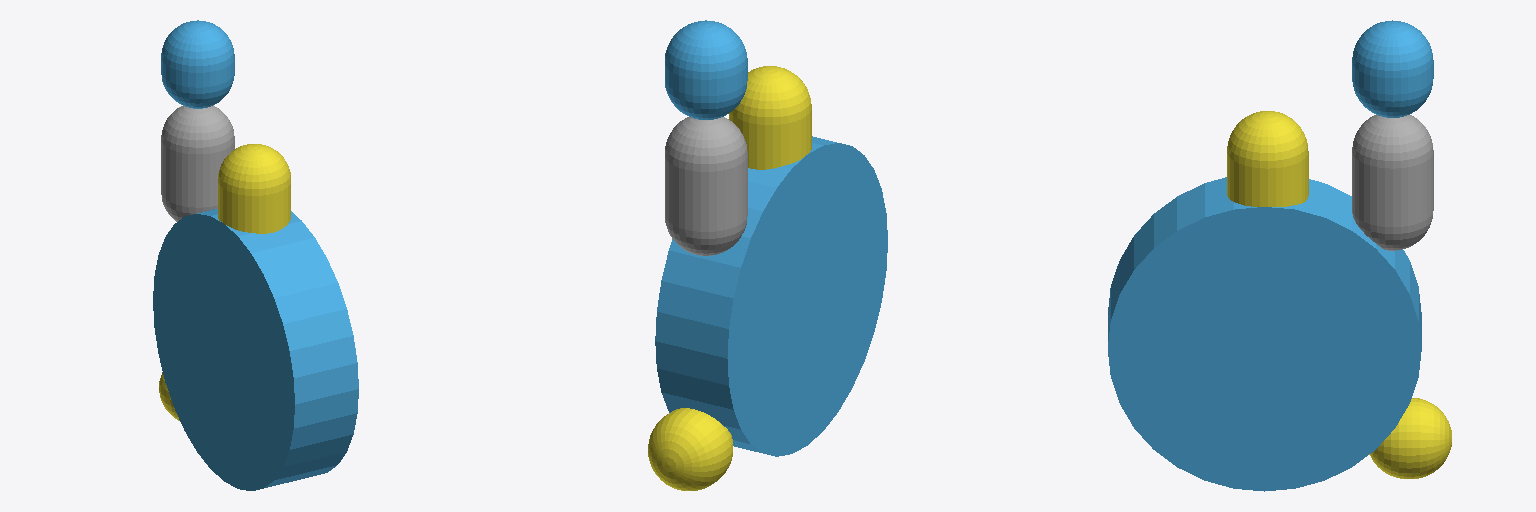
robot.urdf — DexterousHand:
<?xml version="1.0"?>
<robot name="DexterousHand">


    <link name="world"/>
    <joint name="world_to_palm" type="fixed">
        <parent link="world"/>
        <child link="palm"/>
        <origin xyz="0 0 0" rpy="0 0 0"/>
    </joint>
    <link name="palm">
        <inertial>
            <origin xyz="0 0 0.057" rpy="0 0 0"/>
            <mass value="0.30212892864"/>
            <inertia ixx="0.00049080844457568" ixy="0.0" ixz="0.0" iyy="0.00026746366246427523" iyz="0.0" izz="0.00026746366246427523"/>
        </inertial>
        <visual>
            <origin xyz="0 0 0.057" rpy="1.5708 0 1.5708"/>
            <geometry>
                <cylinder radius="0.057" length="0.0296"/>
            </geometry>
            <material name="default"/>
        </visual>
        <collision>
            <origin xyz="0 0 0.057" rpy="1.5708 0 1.5708"/>
            <geometry>
                <cylinder radius="0.057" length="0.0296"/>
            </geometry>
        </collision>
    </link>

    
    <joint name="thumb_joint1" type="revolute">
        <parent link="palm"/>
        <child link="thumb_base"/>
        <origin xyz="0.0029 0.0368 0.0157" rpy="-1.5708 -1.5708 0.0"/>
        <axis xyz="-1 0 0"/>
        <limit lower="-0.349" upper="2.094" effort="1.0" velocity="1.0"/>
    </joint>

    <link name="thumb_base"></link>

    <joint name="thumb_joint2" type="revolute">
        <parent link="thumb_base"/>
        <child link="thumb_proximal"/>
        <origin xyz="0.0 0.0 0.0" rpy="0.0 0.0 0.0"/>
        <axis xyz="0 0 1"/>
        <limit lower="-0.47" upper="2.443" effort="1.0" velocity="1.0"/>
    </joint>

    <link name="thumb_proximal">
        <inertial>
            <origin xyz="0 0 0.01565" rpy="0 0 0"/>
            <mass value="0.021538658803200002"/>
            <inertia ixx="2.9378910096388167e-06" ixy="0.0" ixz="0.0" 
            iyy="2.9378910096388167e-06" iyz="0.0" izz="2.358913912126464e-06"/>
        </inertial>
        <visual>
            <origin xyz="0 0 0.01565" rpy="0 0 0"/>
            <geometry>
                <cylinder radius="0.0148" length="0.0017000000000000001"/>
            </geometry>
            <material name="default"/>
        </visual>
        <visual>
            <origin xyz="0 0 0.0148" rpy="0 0 0"/>
            <geometry>
                <sphere radius="0.0148"/>
            </geometry>
            <material name="default"/>
        </visual>
        <visual>
            <origin xyz="0 0 0.0165" rpy="0 0 0"/>
            <geometry>
                <sphere radius="0.0148"/>
            </geometry>
            <material name="default"/>
        </visual>
        <collision>
            <origin xyz="0 0 0.01565" rpy="0 0 0"/>
            <geometry>
                <cylinder radius="0.0148" length="0.0017000000000000001"/>
            </geometry>
        </collision>
        <collision>
            <origin xyz="0 0 0.0148" rpy="0 0 0"/>
            <geometry>
                <sphere radius="0.0148"/>
            </geometry>
        </collision>
        <collision>
            <origin xyz="0 0 0.0165" rpy="0 0 0"/>
            <geometry>
                <sphere radius="0.0148"/>
            </geometry>
        </collision>
    </link>

    <joint name="thumb_joint3" type="revolute">
        <parent link="thumb_proximal"/>
        <child link="thumb_knuckle"/>
        <origin xyz="0.0 0.0 0.0" rpy="0.0 0.0 0.0"/>
        <axis xyz="1 0 0"/>
        <limit lower="0.0" upper="0.0" effort="1.0" velocity="1.0"/>
    </joint>

    <link name="thumb_knuckle"></link>

    <joint name="thumb_joint4" type="revolute">
        <parent link="thumb_knuckle"/>
        <child link="thumb_middle"/>
        <origin xyz="0 0 0" rpy="0 0 0"/> 
        <axis xyz="0 1 0"/>
        <limit lower="0.0" upper="0.0" effort="1.0" velocity="1.0"/>
    </joint>

    <link name="thumb_middle">
    </link>

    <joint name="thumb_joint5" type="revolute">
        <parent link="thumb_middle"/>
        <child link="thumb_distal"/>
        <origin xyz="0 0 0" rpy="0 0 0"/> 
        <axis xyz="0 1 0"/>
        <limit lower="0.0" upper="0.0" effort="1.0" velocity="1.0"/>
    </joint>

    <link name="thumb_distal">
    </link>

    
    <joint name="index_joint1" type="revolute">
        <parent link="palm"/>
        <child link="index_proximal"/>
        <origin xyz="0.0 0.0465 0.091" rpy="0.0 0.0 0.0"/>
        <axis xyz="0 1 0"/>
        <limit lower="-0.314" upper="2.23" effort="1.0" velocity="1.0"/>
    </joint>

    <link name="index_proximal">
        <inertial>
            <origin xyz="0 0 0.02655" rpy="0 0 0"/>
            <mass value="0.036540024998400006"/>
            <inertia ixx="1.058665009272394e-05" ixy="0.0" ixz="0.0" 
            iyy="1.058665009272394e-05" iyz="0.0" izz="4.001863537824769e-06"/>
        </inertial>
        <visual>
            <origin xyz="0 0 0.02655" rpy="0 0 0"/>
            <geometry>
                <cylinder radius="0.0148" length="0.0235"/>
            </geometry>
            <material name="default"/>
        </visual>
        <visual>
            <origin xyz="0 0 0.0148" rpy="0 0 0"/>
            <geometry>
                <sphere radius="0.0148"/>
            </geometry>
            <material name="default"/>
        </visual>
        <visual>
            <origin xyz="0 0 0.0383" rpy="0 0 0"/>
            <geometry>
                <sphere radius="0.0148"/>
            </geometry>
            <material name="default"/>
        </visual>
        <collision>
            <origin xyz="0 0 0.02655" rpy="0 0 0"/>
            <geometry>
                <cylinder radius="0.0148" length="0.0235"/>
            </geometry>
        </collision>
        <collision>
            <origin xyz="0 0 0.0148" rpy="0 0 0"/>
            <geometry>
                <sphere radius="0.0148"/>
            </geometry>
        </collision>
        <collision>
            <origin xyz="0 0 0.0383" rpy="0 0 0"/>
            <geometry>
                <sphere radius="0.0148"/>
            </geometry>
        </collision>
    </link>

    <joint name="index_joint2" type="revolute">
        <parent link="index_proximal"/>
        <child link="index_dummy"/>
        <origin xyz="0.0 0.0 0.038" rpy="0.0 0.0 0.0"/>
        <axis xyz="1 0 0"/>
        <limit lower="-1.047" upper="1.047" effort="1.0" velocity="1.0"/>
    </joint>

    <link name="index_dummy"></link>

    <joint name="index_joint3" type="revolute">
        <parent link="index_dummy"/>
        <child link="index_middle"/>
        <origin xyz="0 0 0.015100000000000002" rpy="0 0 0"/>
        <axis xyz="0 1 0"/>
        <limit lower="-0.506" upper="1.885" effort="1.0" velocity="1.0"/>
    </joint>

    <link name="index_middle">
        <inertial>
            <origin xyz="0 0 0.01805" rpy="0 0 0"/>
            <mass value="0.0248417119104"/>
            <inertia ixx="4.058162759109537e-06" ixy="0.0" ixz="0.0" 
            iyy="4.058162759109537e-06" iyz="0.0" izz="2.7206642884270085e-06"/>
        </inertial>
        <visual>
            <origin xyz="0 0 0.01805" rpy="0 0 0"/>
            <geometry>
                <cylinder radius="0.0148" length="0.006499999999999999"/>
            </geometry>
            <material name="default"/>
        </visual>
        <visual>
            <origin xyz="0 0 0.0148" rpy="0 0 0"/>
            <geometry>
                <sphere radius="0.0148"/>
            </geometry>
            <material name="default"/>
        </visual>
        <visual>
            <origin xyz="0 0 0.0213" rpy="0 0 0"/>
            <geometry>
                <sphere radius="0.0148"/>
            </geometry>
            <material name="default"/>
        </visual>
        <collision>
            <origin xyz="0 0 0.01805" rpy="0 0 0"/>
            <geometry>
                <cylinder radius="0.0148" length="0.006499999999999999"/>
            </geometry>
        </collision>
        <collision>
            <origin xyz="0 0 0.0148" rpy="0 0 0"/>
            <geometry>
                <sphere radius="0.0148"/>
            </geometry>
        </collision>
        <collision>
            <origin xyz="0 0 0.0213" rpy="0 0 0"/>
            <geometry>
                <sphere radius="0.0148"/>
            </geometry>
        </collision>
    </link>

    <joint name="index_joint4" type="revolute">
        <parent link="index_middle"/>
        <child link="index_distal"/>
        <origin xyz="0 0 0.0361" rpy="0 0 0"/> 
        <axis xyz="0 1 0"/>
        <limit lower="0.0" upper="0.0" effort="1.0" velocity="1.0"/>
    </joint>

    <link name="index_distal">
    </link>

    
    <joint name="middle_joint1" type="revolute">
        <parent link="palm"/>
        <child link="middle_proximal"/>
        <origin xyz="0.0 0.0011 0.091" rpy="0.0 0.0 0.0"/>
        <axis xyz="0 1 0"/>
        <limit lower="-0.314" upper="2.23" effort="1.0" velocity="1.0"/>
    </joint>

    <link name="middle_proximal">
        <inertial>
            <origin xyz="0 0 0.02655" rpy="0 0 0"/>
            <mass value="0.036540024998400006"/>
            <inertia ixx="1.058665009272394e-05" ixy="0.0" ixz="0.0" 
            iyy="1.058665009272394e-05" iyz="0.0" izz="4.001863537824769e-06"/>
        </inertial>
        <visual>
            <origin xyz="0 0 0.02655" rpy="0 0 0"/>
            <geometry>
                <cylinder radius="0.0148" length="0.0235"/>
            </geometry>
            <material name="default"/>
        </visual>
        <visual>
            <origin xyz="0 0 0.0148" rpy="0 0 0"/>
            <geometry>
                <sphere radius="0.0148"/>
            </geometry>
            <material name="default"/>
        </visual>
        <visual>
            <origin xyz="0 0 0.0383" rpy="0 0 0"/>
            <geometry>
                <sphere radius="0.0148"/>
            </geometry>
            <material name="default"/>
        </visual>
        <collision>
            <origin xyz="0 0 0.02655" rpy="0 0 0"/>
            <geometry>
                <cylinder radius="0.0148" length="0.0235"/>
            </geometry>
        </collision>
        <collision>
            <origin xyz="0 0 0.0148" rpy="0 0 0"/>
            <geometry>
                <sphere radius="0.0148"/>
            </geometry>
        </collision>
        <collision>
            <origin xyz="0 0 0.0383" rpy="0 0 0"/>
            <geometry>
                <sphere radius="0.0148"/>
            </geometry>
        </collision>
    </link>

    <joint name="middle_joint2" type="revolute">
        <parent link="middle_proximal"/>
        <child link="middle_dummy"/>
        <origin xyz="0.0 0.0 0.038" rpy="0.0 0.0 0.0"/>
        <axis xyz="0 1 0"/>
        <limit lower="0.0" upper="0.0" effort="1.0" velocity="1.0"/>
    </joint>

    <link name="middle_dummy"></link>

    <joint name="middle_joint3" type="revolute">
        <parent link="middle_dummy"/>
        <child link="middle_middle"/>
        <origin xyz="0 0 0.015100000000000002" rpy="0 0 0"/>
        <axis xyz="0 1 0"/>
        <limit lower="0.0" upper="0.0" effort="1.0" velocity="1.0"/>
    </joint>

    <link name="middle_middle">
    </link>

    <joint name="middle_joint4" type="revolute">
        <parent link="middle_middle"/>
        <child link="middle_distal"/>
        <origin xyz="0 0 0" rpy="0 0 0"/> 
        <axis xyz="0 1 0"/>
        <limit lower="0.0" upper="0.0" effort="1.0" velocity="1.0"/>
    </joint>

    <link name="middle_distal">
    </link>

    
    <joint name="ring_joint1" type="revolute">
        <parent link="palm"/>
        <child link="ring_proximal"/>
        <origin xyz="0.0 0.0 0.0" rpy="0.0 0.0 0.0"/>
        <axis xyz="1 0 0"/>
        <limit lower="0.0" upper="0.0" effort="1.0" velocity="1.0"/>
    </joint>

    <link name="ring_proximal">
    </link>

    <joint name="ring_joint2" type="revolute">
        <parent link="ring_proximal"/>
        <child link="ring_dummy"/>
        <origin xyz="0.0 0.0 0.0" rpy="0.0 0.0 0.0"/>
        <axis xyz="0 1 0"/>
        <limit lower="0.0" upper="0.0" effort="1.0" velocity="1.0"/>
    </joint>

    <link name="ring_dummy"></link>

    <joint name="ring_joint3" type="revolute">
        <parent link="ring_dummy"/>
        <child link="ring_middle"/>
        <origin xyz="0 0 0" rpy="0 0 0"/>
        <axis xyz="0 1 0"/>
        <limit lower="0.0" upper="0.0" effort="1.0" velocity="1.0"/>
    </joint>

    <link name="ring_middle">
    </link>

    <joint name="ring_joint4" type="revolute">
        <parent link="ring_middle"/>
        <child link="ring_distal"/>
        <origin xyz="0 0 0" rpy="0 0 0"/> 
        <axis xyz="0 1 0"/>
        <limit lower="0.0" upper="0.0" effort="1.0" velocity="1.0"/>
    </joint>

    <link name="ring_distal">
    </link>

    
    <joint name="little_joint0" type="revolute">
        <parent link="palm"/>
        <child link="little_base"/>
        <origin xyz="0.0 0.0 0.0" rpy="0.0 0.0 0.0"/>
        <axis xyz="0 1 0"/>
        <limit lower="0.0" upper="0.0" effort="1.0" velocity="1.0"/>
    </joint>

    <link name="little_base"></link>

    <joint name="little_joint1" type="revolute">
        <parent link="little_base"/>
        <child link="little_proximal"/>
        <origin xyz="0.0 0.0 0.0" rpy="-0.0 -0.0 -0.0"/>
        <axis xyz="1 0 0"/>
        <limit lower="0.0" upper="0.0" effort="1.0" velocity="1.0"/>
    </joint>

    <link name="little_proximal">
    </link>

    <joint name="little_joint2" type="revolute">
        <parent link="little_proximal"/>
        <child link="little_dummy"/>
        <origin xyz="0.0 0.0 0.0" rpy="0.0 0.0 0.0"/>
        <axis xyz="0 1 0"/>
        <limit lower="0.0" upper="0.0" effort="1.0" velocity="1.0"/>
    </joint>

    <link name="little_dummy"></link>

    <joint name="little_joint3" type="revolute">
        <parent link="little_dummy"/>
        <child link="little_middle"/>
        <origin xyz="0 0 0" rpy="0 0 0"/>
        <axis xyz="0 1 0"/>
        <limit lower="0.0" upper="0.0" effort="1.0" velocity="1.0"/>
    </joint>

    <link name="little_middle">
    </link>

    <joint name="little_joint4" type="revolute">
        <parent link="little_middle"/>
        <child link="little_distal"/>
        <origin xyz="0 0 0" rpy="0 0 0"/>
        <axis xyz="0 1 0"/>
        <limit lower="0.0" upper="0.0" effort="1.0" velocity="1.0"/>
    </joint>

    <link name="little_distal">
    </link>

</robot>

--- What the picture shows (computed from the rendered views, not written in the file) ---
3 views of the same robot in one strip: view 1: azimuth 30°, elevation 25°; view 2: azimuth 150°, elevation 25°; view 3: azimuth 270°, elevation 25° (orthographic).
Model DexterousHand with 24 links and 23 joints (22 revolute, 1 fixed), rooted at world, posed every joint at zero.
Links seen in each view (by area): view 1: palm, index_proximal, middle_proximal, index_middle; view 2: palm, index_proximal, index_middle, middle_proximal, thumb_proximal; view 3: palm, index_proximal, middle_proximal, index_middle, thumb_proximal.
Boxes of the visible links, x1,y1,x2,y2 form: palm: [153, 209, 358, 490]; index_proximal: [161, 105, 234, 221]; middle_proximal: [218, 144, 290, 233]; index_middle: [161, 20, 234, 108]; palm: [655, 136, 887, 456]; index_proximal: [665, 117, 747, 255]; index_middle: [665, 20, 747, 119]; middle_proximal: [729, 66, 811, 169]; thumb_proximal: [648, 408, 732, 490]; palm: [1108, 177, 1421, 491]; index_proximal: [1352, 115, 1433, 250]; middle_proximal: [1227, 111, 1308, 206]; index_middle: [1352, 20, 1433, 117]; thumb_proximal: [1369, 398, 1451, 478].
Bounding box of the posed robot: 0.0325 × 0.1251 × 0.1802 m (x, y, z).
Geometry: primitives only (box / cylinder / sphere), no mesh files.
